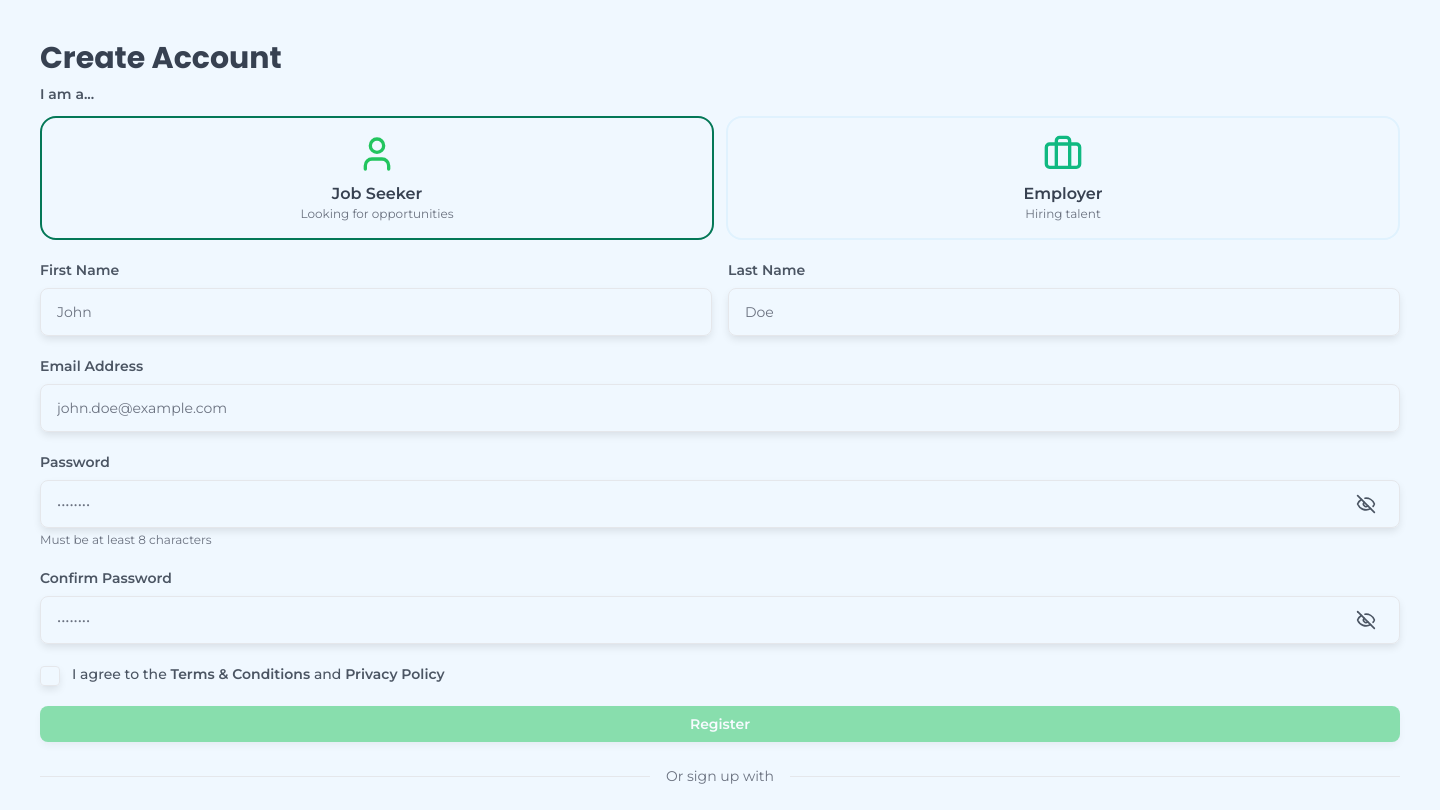
Test: RegistrationForm › shows validation error when first name is cleared
Type "J" into the field labelled "First Name".
click(376, 312); type("J")  # box 40,288 -> 712,336
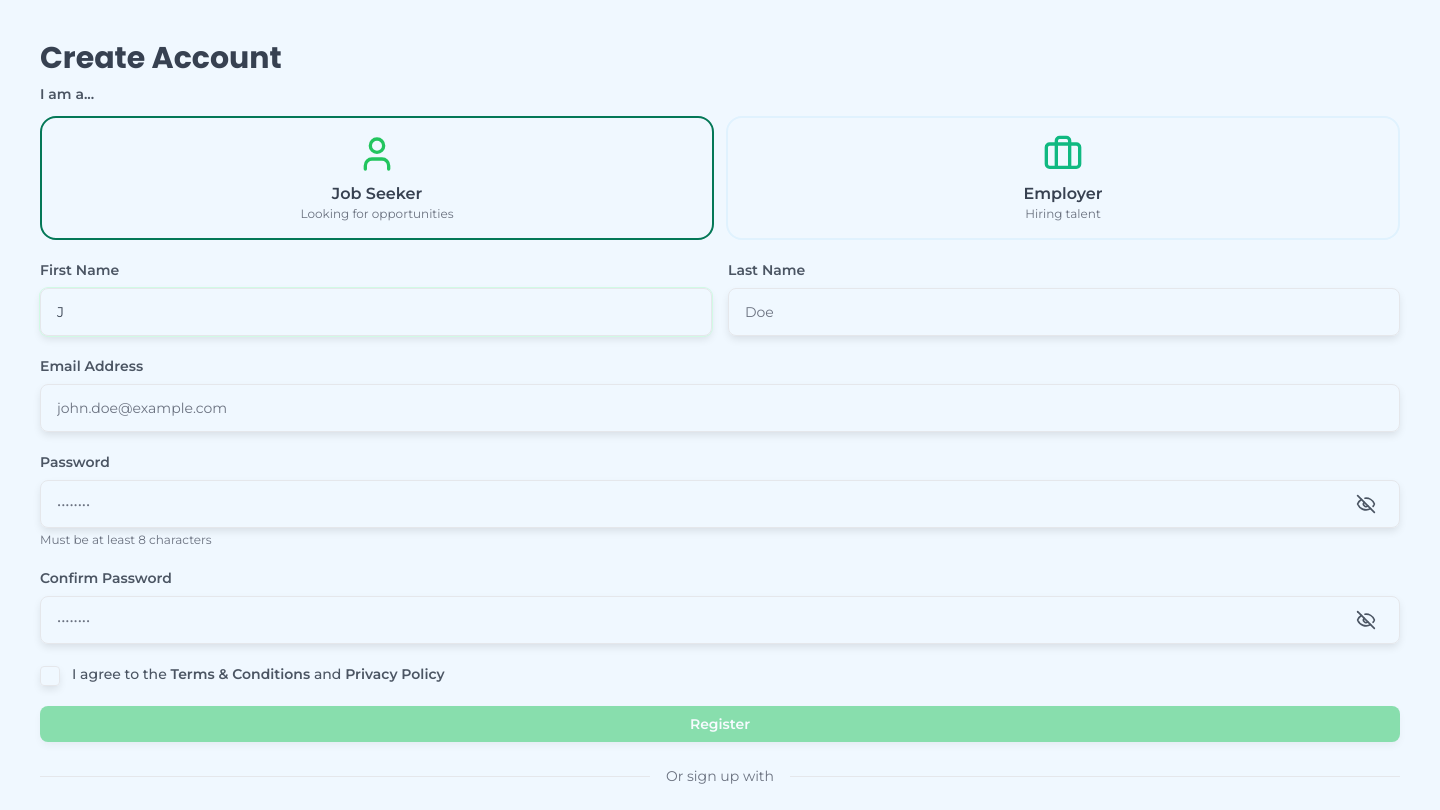
Clear the field labelled "First Name" at (376, 312), box 40,288 -> 712,336
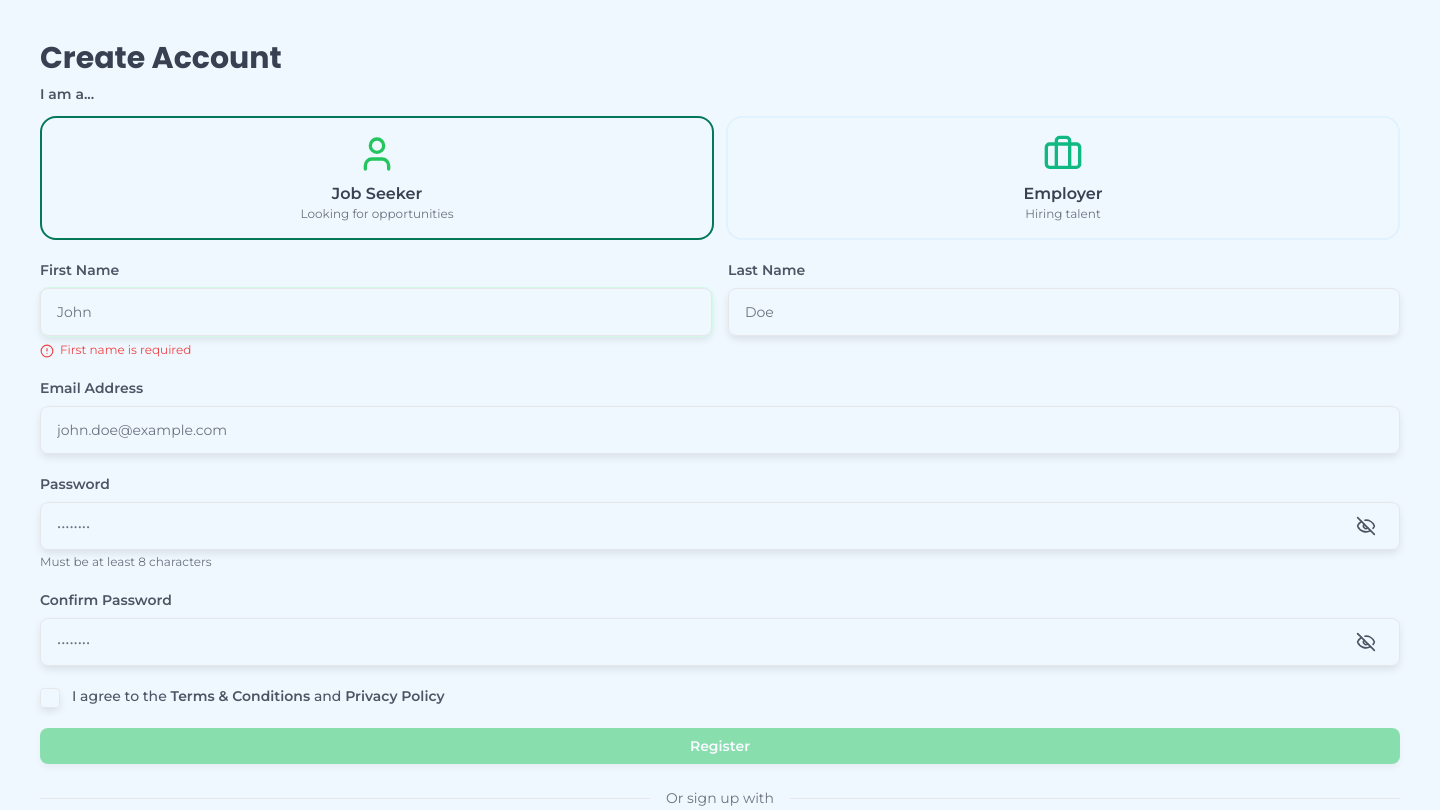
Expected: the text "First name is required" is shown, 60,342 -> 191,358
